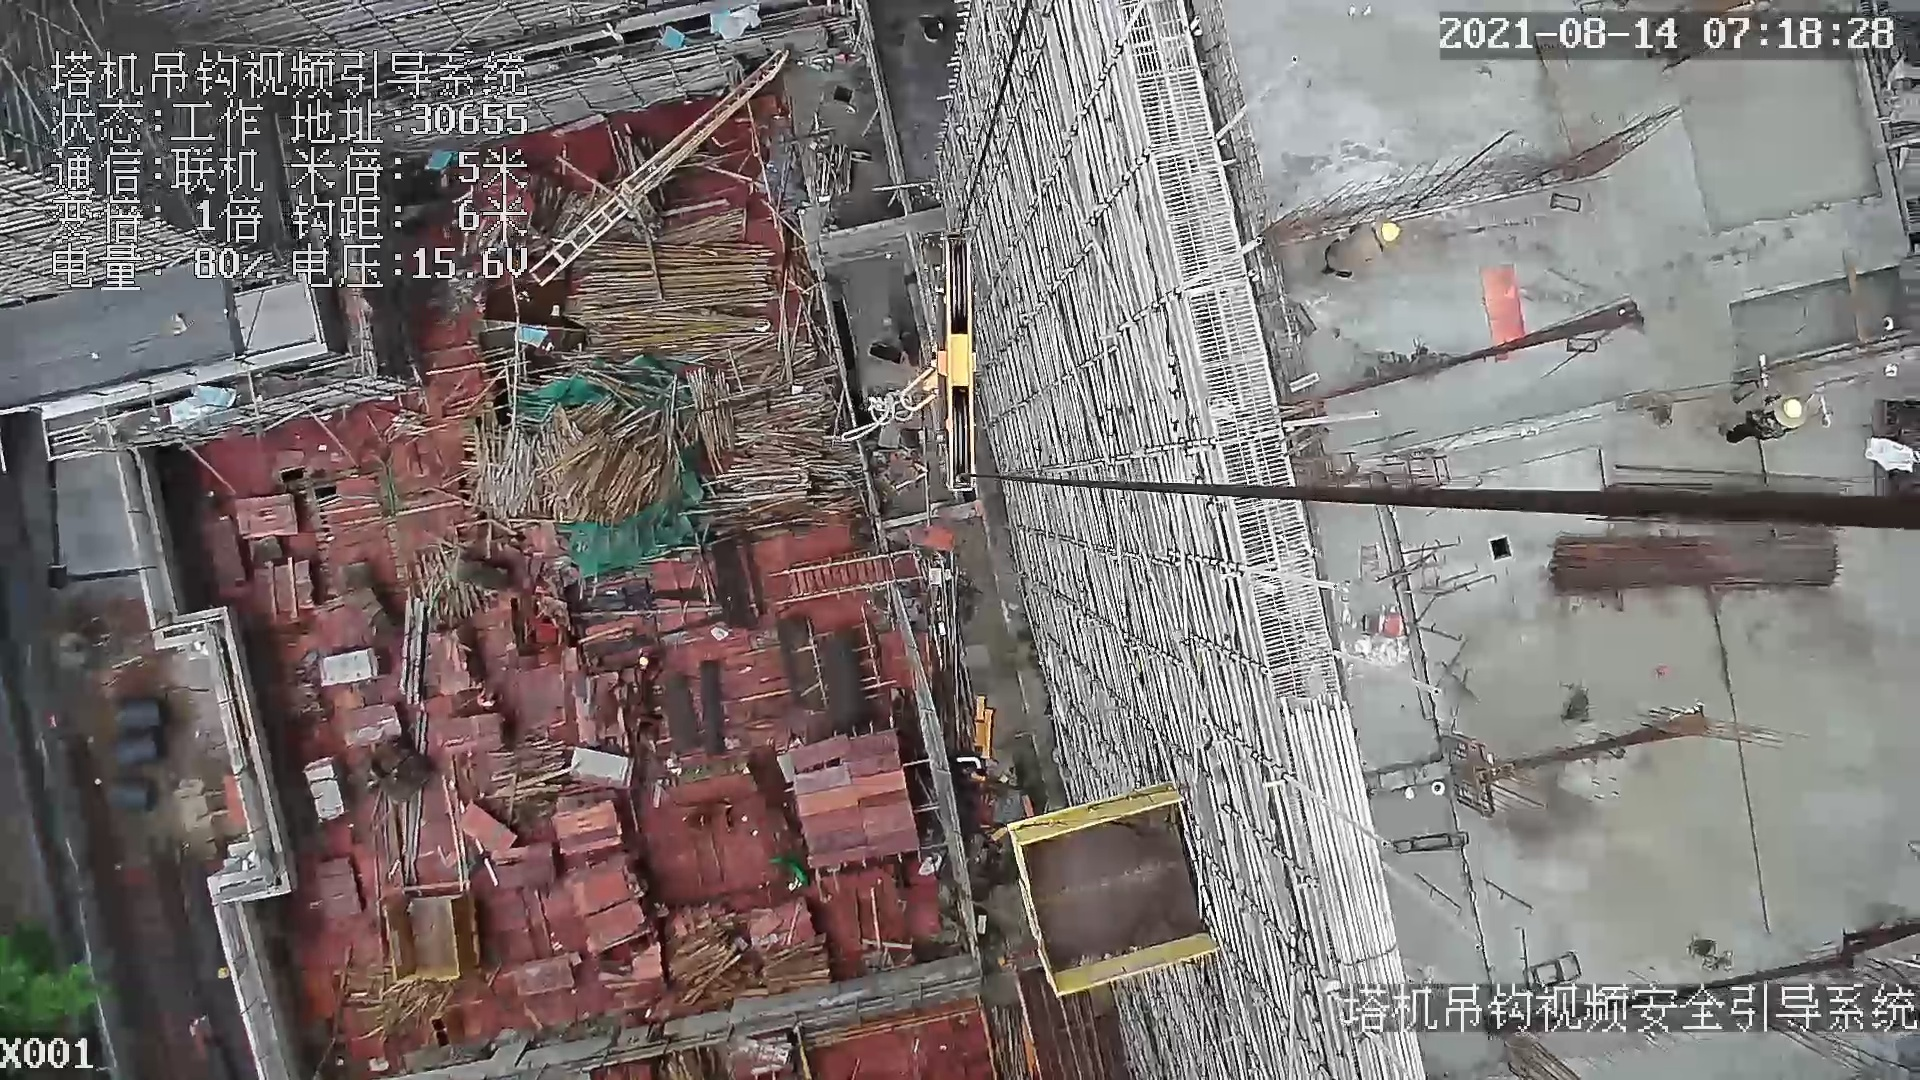helmet: (1374, 219, 1410, 252), (1781, 394, 1804, 430)
hook: (900, 231, 985, 490)
person: (1328, 218, 1410, 286), (1727, 399, 1799, 445)
